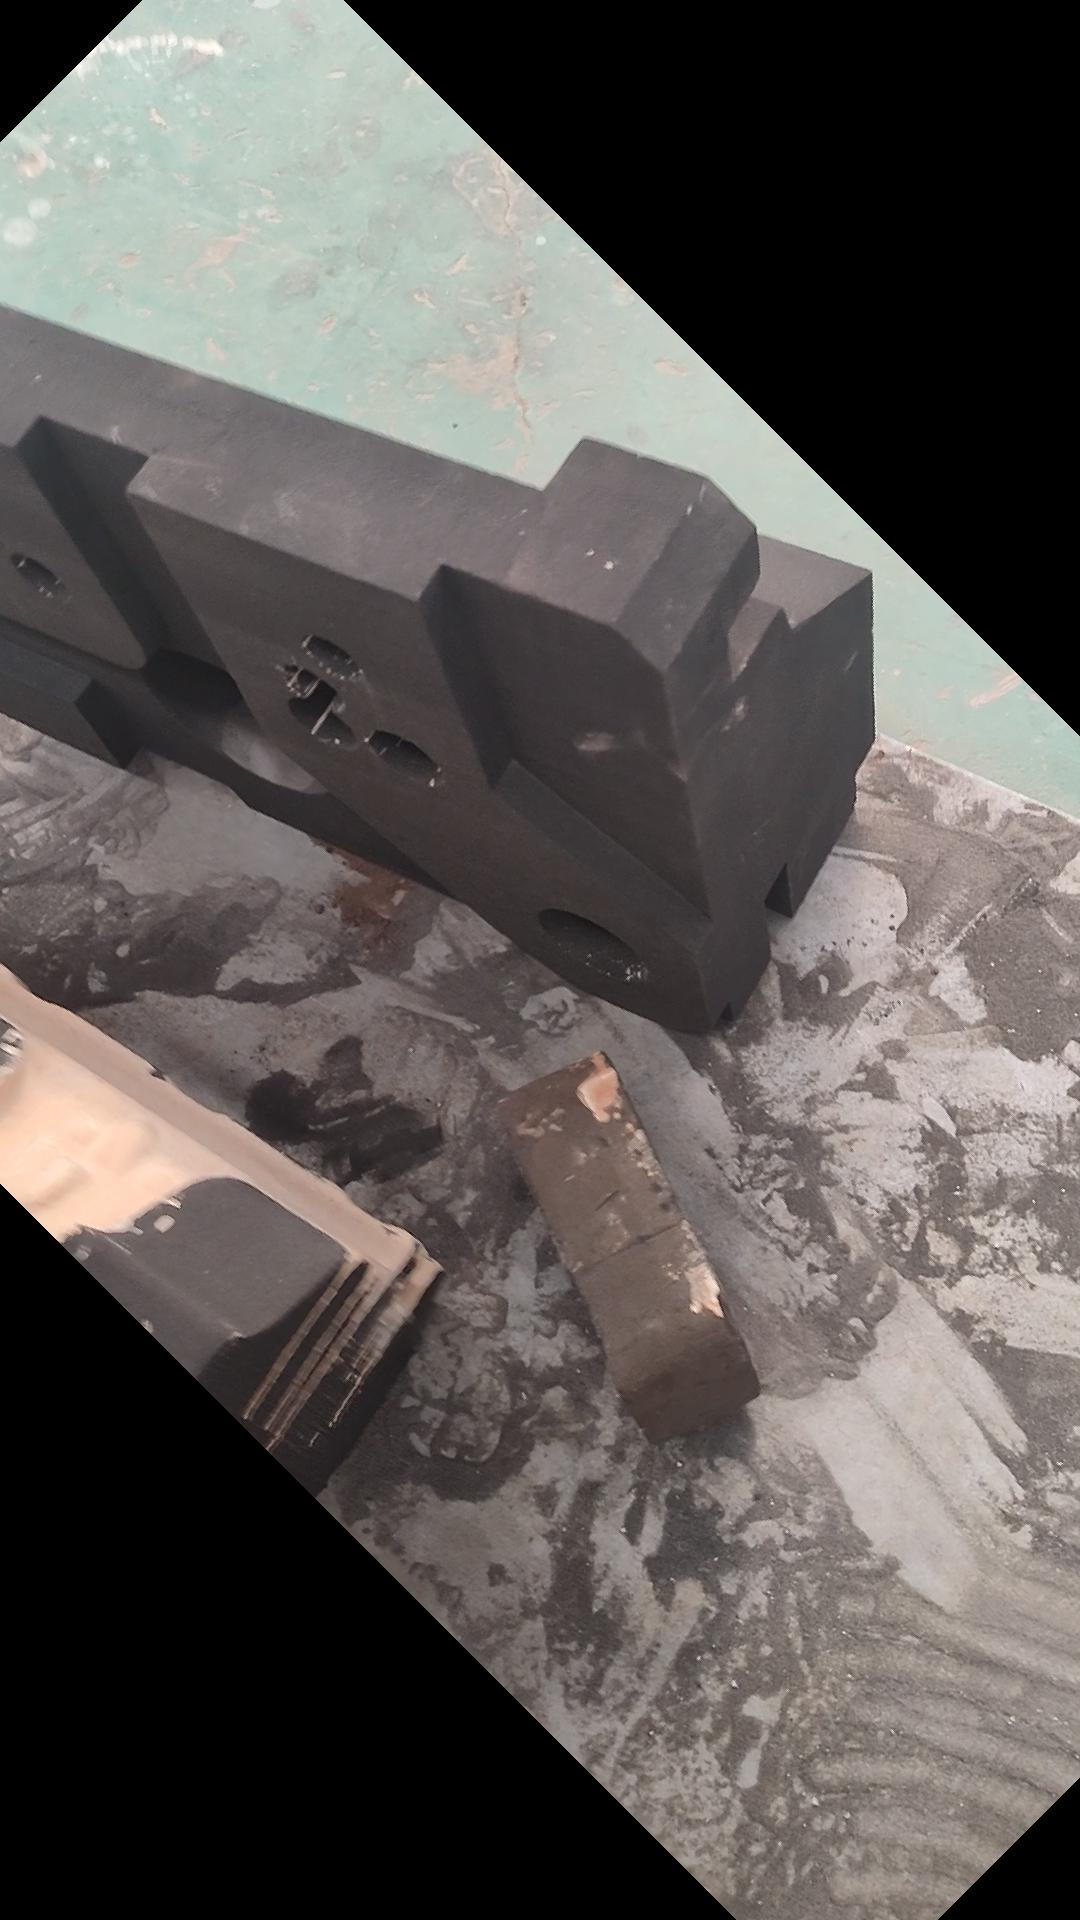pouring hole: (538, 907, 647, 982)
